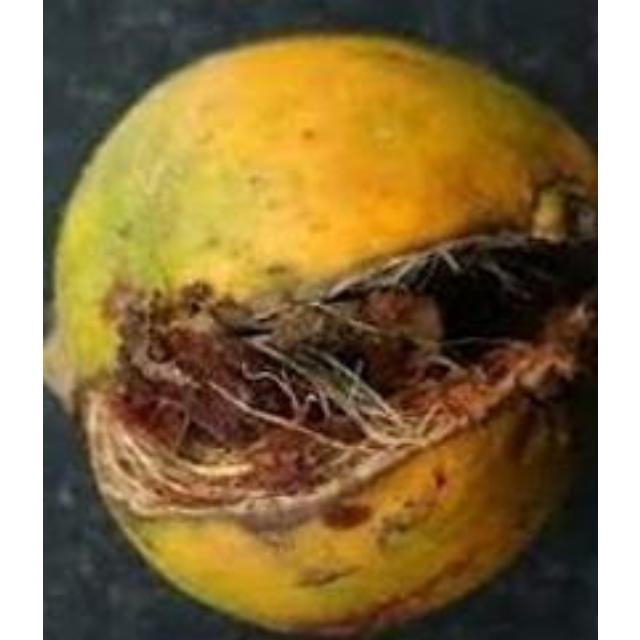damaged: (42, 35, 594, 632)
